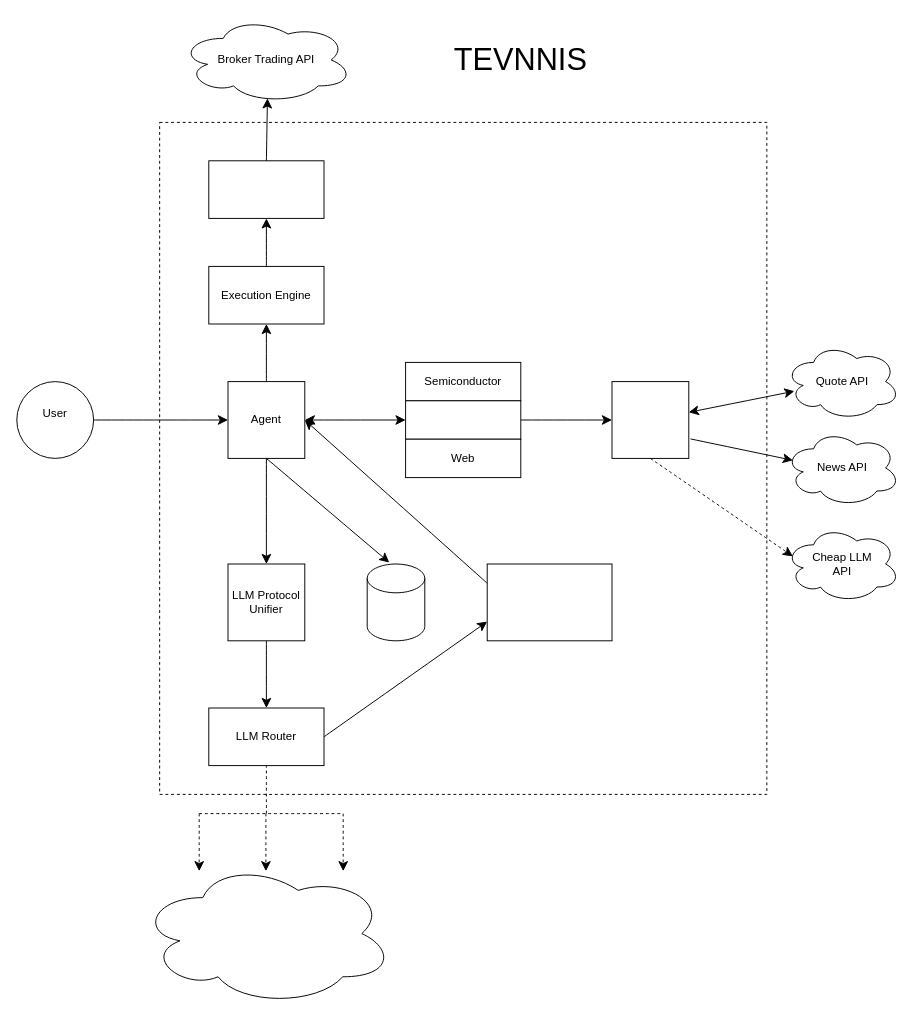
Image size: 917x1022. Some labels were removed from this diagram. Each missing label, with the centre of its shape:
"Data Unifier" goes at pixel 650 419.
"Energy" goes at pixel 463 419.
"Risk Engine Allow/Reject" goes at pixel 266 189.
"Strong Cheap Local LLM API Provider" goes at pixel 266 933.
"Trading Instruction Unifier" goes at pixel 549 602.
